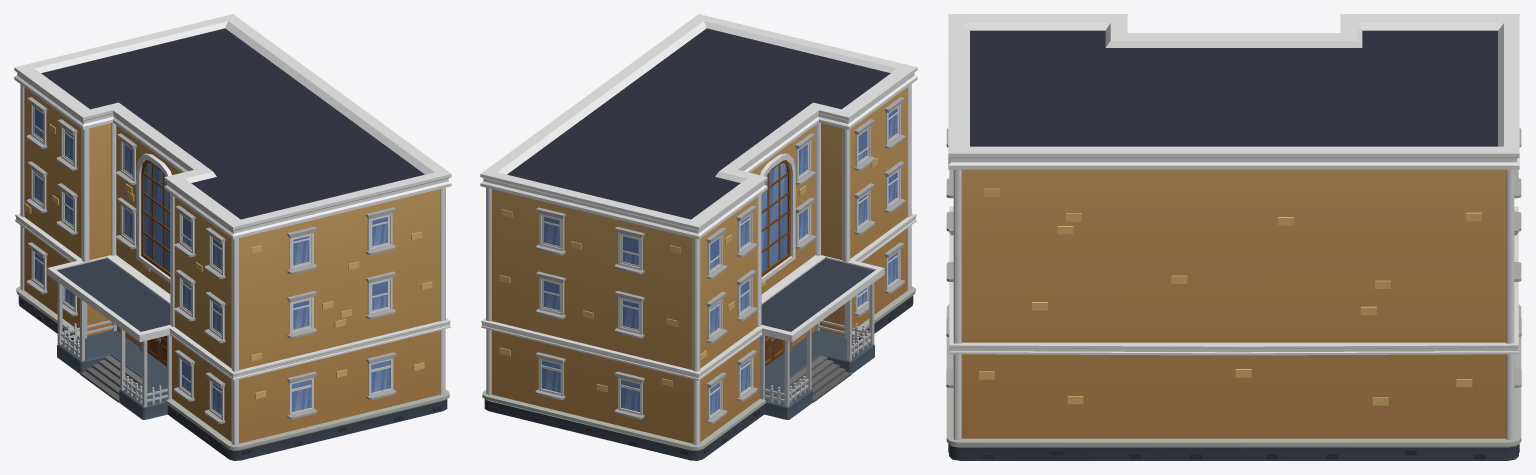
Rendered from Building_5_2_M.glb.
3 renders of one model, left to right at view 1: azimuth 30°, elevation 25°; view 2: azimuth 150°, elevation 25°; view 3: azimuth 270°, elevation 25°, orthographic. The views are drawn at different scales.
Parts seen in each view (by area): view 1: Building_5_2_M; view 2: Building_5_2_M; view 3: Building_5_2_M.
Part boxes in pixels (box(x1,y1,x2,y2)): Building_5_2_M: box(14, 14, 451, 460); Building_5_2_M: box(480, 14, 917, 460); Building_5_2_M: box(946, 14, 1521, 460).
Bounding box in the file's own units: 12.51 × 11.26 × 19.08.
3 materials, 3 textured.
